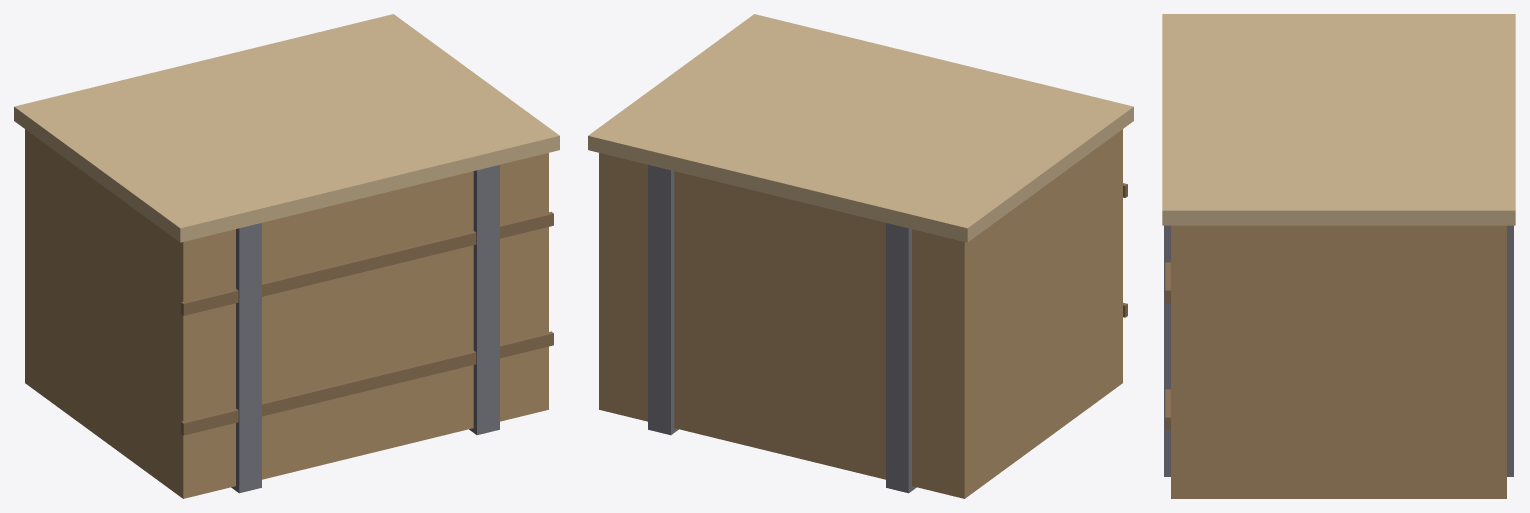
File: CrateLarge.glb
3 views of the same model, side by side, from view 1: azimuth 30°, elevation 25°; view 2: azimuth 150°, elevation 25°; view 3: azimuth 270°, elevation 25° (orthographic). The views are drawn at different scales.
Parts seen in each view (by area): view 1: CrateLarge_Body, CrateLarge_Lid, CrateLarge_Band.001, CrateLarge_Band, CrateLarge_Plank, CrateLarge_Plank.001; view 2: CrateLarge_Body, CrateLarge_Lid, CrateLarge_Band.001, CrateLarge_Band; view 3: CrateLarge_Body, CrateLarge_Lid, CrateLarge_Band.001.
Boxes of the visible parts, box(x1,y1,x2,y2) form: CrateLarge_Body: box(25, 129, 548, 498); CrateLarge_Lid: box(14, 14, 559, 242); CrateLarge_Band.001: box(469, 165, 499, 435); CrateLarge_Band: box(231, 223, 261, 493); CrateLarge_Plank: box(181, 331, 553, 435); CrateLarge_Plank.001: box(181, 211, 553, 315); CrateLarge_Body: box(599, 129, 1122, 498); CrateLarge_Lid: box(588, 14, 1133, 242); CrateLarge_Band.001: box(648, 165, 678, 435); CrateLarge_Band: box(886, 223, 916, 493); CrateLarge_Body: box(1171, 225, 1506, 498); CrateLarge_Lid: box(1162, 14, 1515, 225); CrateLarge_Band.001: box(1164, 225, 1513, 476).
Bounding box in the file's own units: 1.66 × 1.17 × 1.26.
